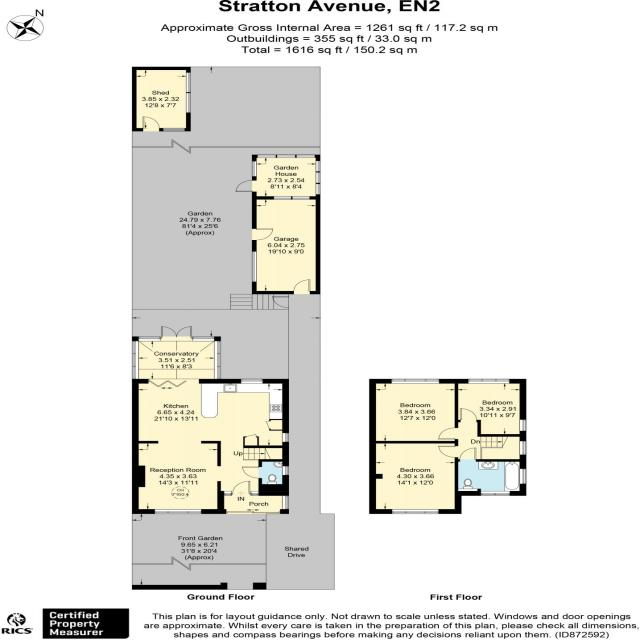DOOR: (438, 427, 459, 440), (438, 445, 458, 458), (242, 466, 262, 479), (459, 448, 477, 462), (459, 408, 477, 422)
FOLDING DOOR: (144, 379, 200, 389)
ROOM: (131, 379, 289, 514), (369, 441, 462, 514), (369, 379, 459, 443), (454, 379, 526, 437)
WINDOW: (154, 508, 202, 514), (467, 378, 510, 384), (391, 379, 440, 384), (391, 509, 439, 514), (480, 491, 510, 496), (240, 379, 263, 384), (519, 468, 526, 484), (519, 441, 527, 455), (282, 432, 289, 443), (282, 466, 289, 476)
